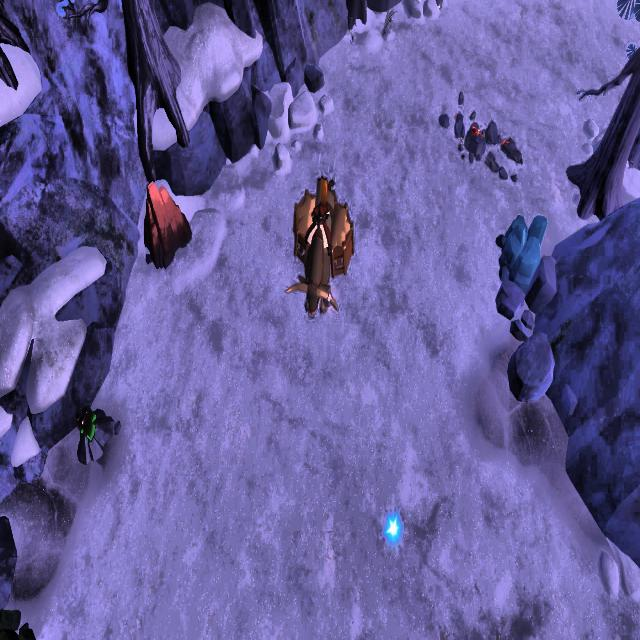ore_t3: (76, 405, 97, 442)
rock_t4: (496, 207, 546, 290)
rock_t5: (140, 177, 193, 272)
